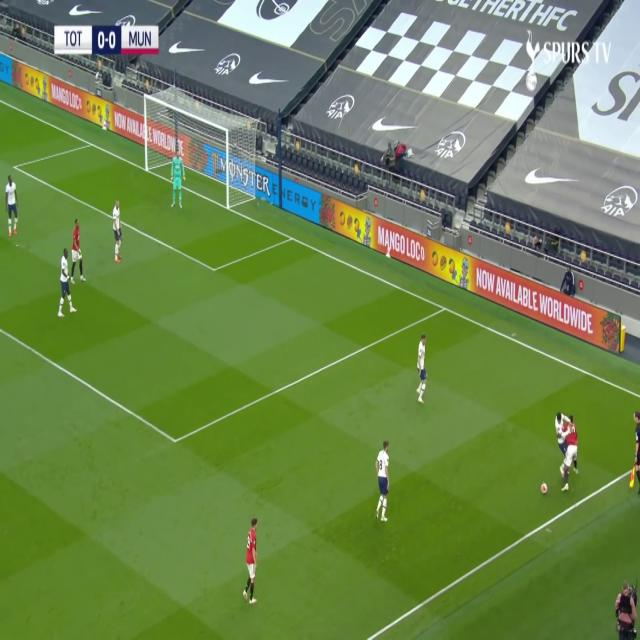Ball: (538, 478, 550, 502)
GoalKeeper: (170, 157, 186, 210)
TEAM 1: (56, 247, 77, 323), (374, 441, 392, 525), (416, 334, 430, 404), (6, 176, 21, 236), (112, 199, 125, 263), (553, 397, 567, 455)
TEAM 2: (556, 414, 581, 493), (244, 517, 261, 606), (70, 219, 86, 283)
